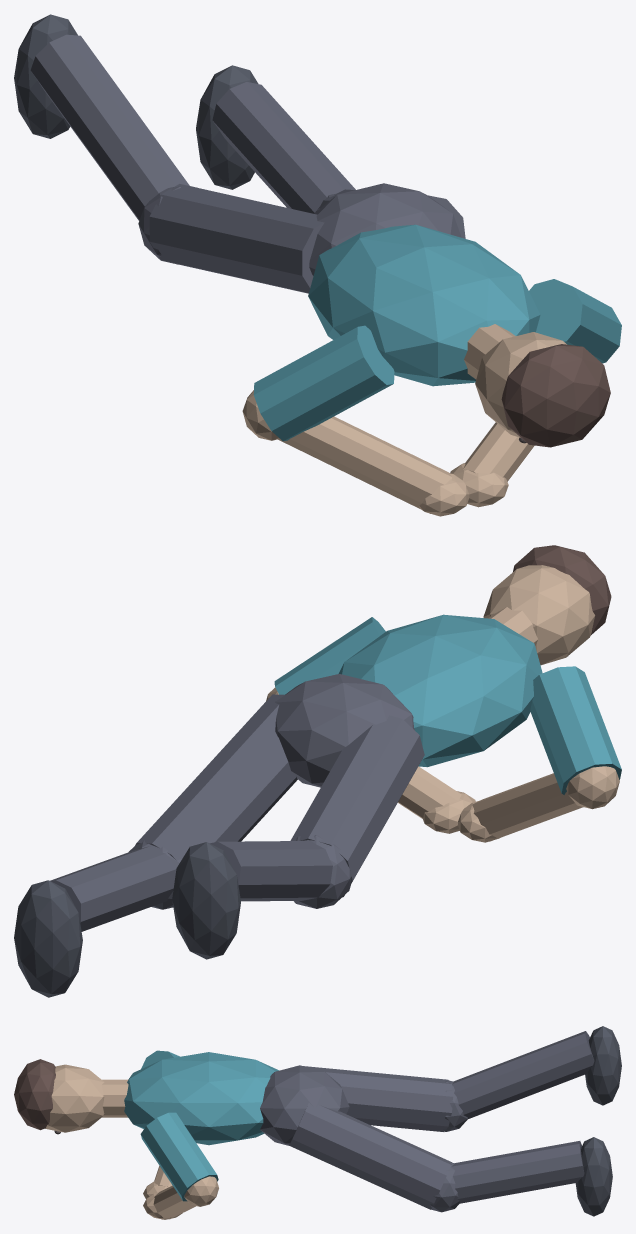
The picture shows the model from 3 angles, top to bottom: view 1: azimuth 30°, elevation 25°; view 2: azimuth 150°, elevation 25°; view 3: azimuth 270°, elevation 25°; orthographic projection. The views are drawn at different scales.
Parts seen in each view (by area): view 1: world; view 2: world; view 3: world.
Boxes of the visible parts, x1,y1,x2,y2 form: world: (14, 14, 621, 516); world: (14, 545, 621, 997); world: (14, 1026, 621, 1219).
Size of the model in its own units: 0.93 by 0.6213 by 2.07.
